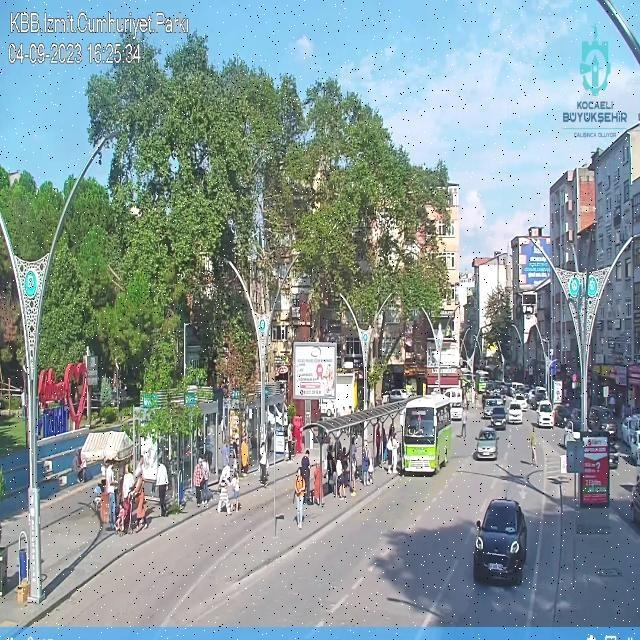Bus: (402, 395, 449, 474), (475, 371, 489, 394)
Car: (474, 498, 527, 584), (621, 415, 640, 459), (590, 407, 616, 438), (475, 428, 499, 461), (537, 401, 554, 428), (482, 399, 502, 420), (553, 404, 572, 426), (489, 407, 507, 430), (507, 402, 523, 424), (385, 389, 410, 402)
